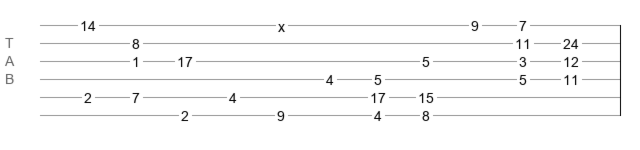1: (132, 54, 140, 64)
11: (515, 36, 531, 46), (563, 72, 579, 82)
12: (563, 54, 579, 64)
14: (80, 18, 96, 28)
15: (418, 90, 434, 100)
17: (177, 54, 193, 64), (370, 90, 386, 100)
2: (84, 90, 92, 100), (181, 108, 189, 118)
24: (563, 36, 579, 46)
3: (519, 54, 527, 64)
4: (229, 90, 237, 100), (326, 72, 334, 82), (374, 108, 382, 118)
5: (374, 72, 382, 82), (422, 54, 430, 64), (519, 72, 527, 82)
7: (132, 90, 140, 100), (519, 18, 527, 28)
8: (132, 36, 140, 46), (422, 108, 430, 118)
9: (277, 108, 285, 118), (471, 18, 479, 28)
x: (278, 19, 285, 27)
